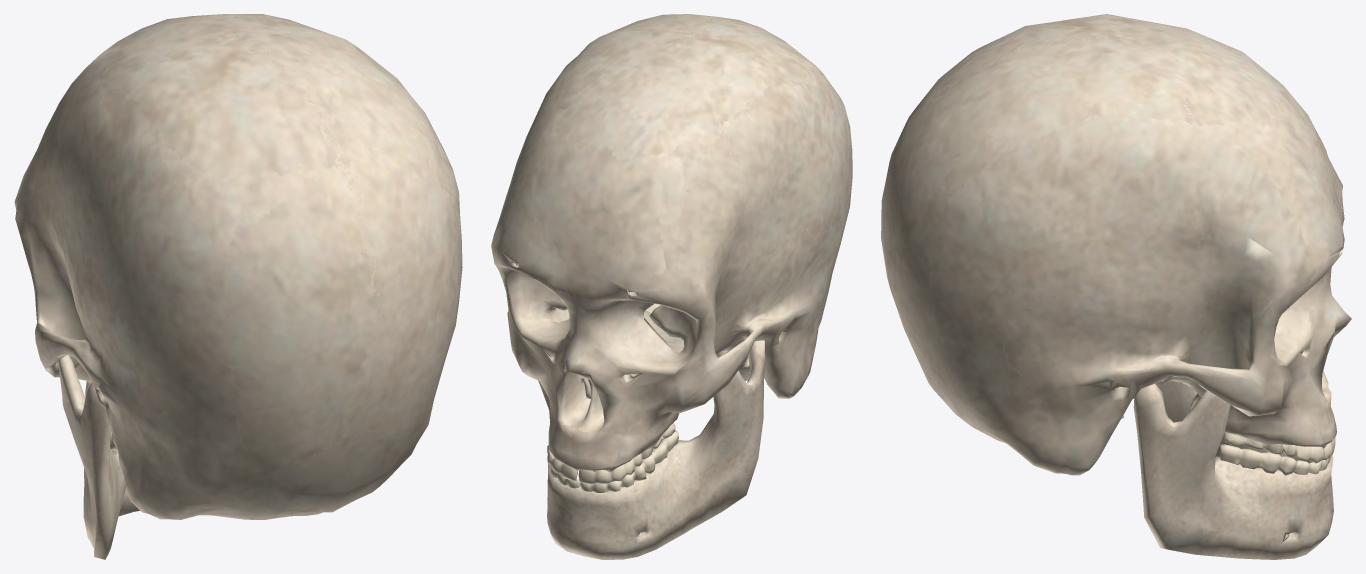
The model's file is SkullAsset.fbx.
3 views of the same model, side by side, from view 1: azimuth 30°, elevation 25°; view 2: azimuth 150°, elevation 25°; view 3: azimuth 270°, elevation 25° (orthographic). The views are drawn at different scales.
Visible parts, largest first — view 1: Skull__1_, Jaw__1_; view 2: Skull__1_, Jaw__1_, TeethLower__1_, TeethUpper__1_; view 3: Skull__1_, Jaw__1_, TeethLower__1_, TeethUpper__1_.
Boxes of the visible parts, left/top/right/bottom form: Skull__1_: left=14, top=14, right=462, bottom=519; Jaw__1_: left=58, top=355, right=139, bottom=559; Skull__1_: left=491, top=14, right=852, bottom=472; Jaw__1_: left=538, top=340, right=765, bottom=559; TeethLower__1_: left=550, top=430, right=678, bottom=492; TeethUpper__1_: left=546, top=423, right=675, bottom=484; Skull__1_: left=881, top=14, right=1351, bottom=475; Jaw__1_: left=1133, top=381, right=1333, bottom=559; TeethLower__1_: left=1220, top=444, right=1331, bottom=475; TeethUpper__1_: left=1224, top=432, right=1335, bottom=463.
Bounding box in the file's own units: 160 × 265 × 225.
1 material, 1 textured.
